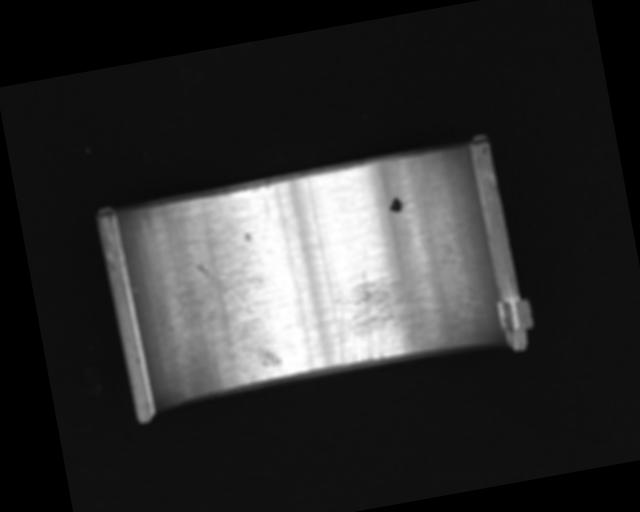blot: (386, 195, 404, 214)
bruise: (252, 343, 283, 371), (242, 229, 253, 243)
nick: (197, 257, 250, 323)
scratch: (324, 254, 471, 367)
